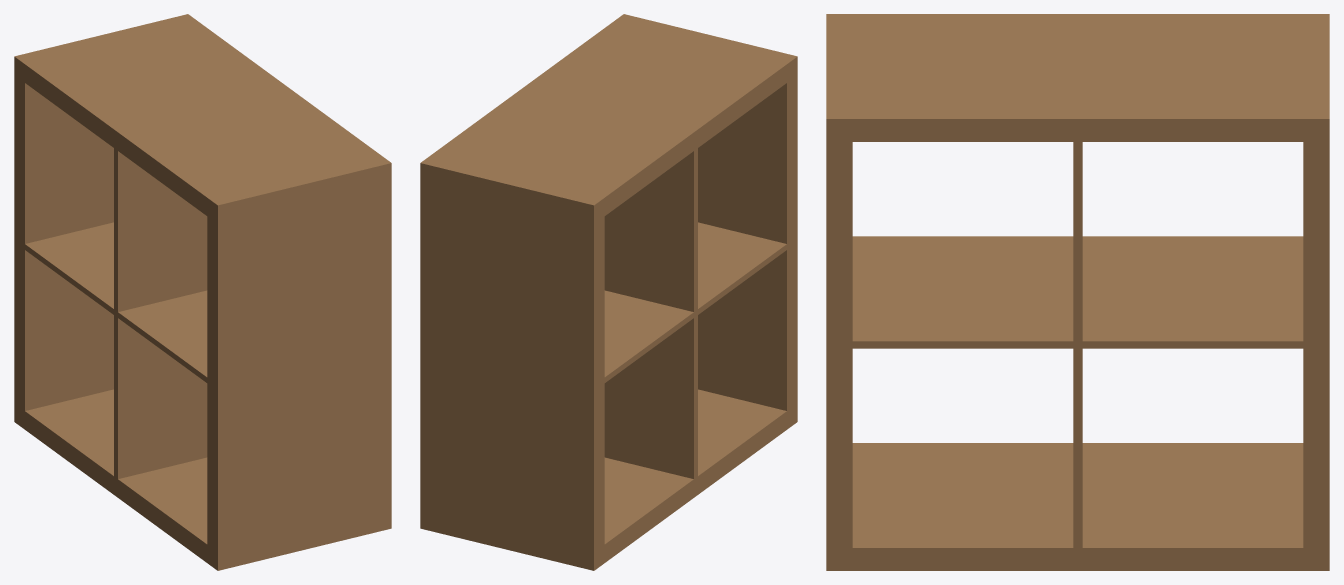
The model's file is rack_5.FBX.
The picture shows the model from 3 angles, left to right: view 1: azimuth 30°, elevation 25°; view 2: azimuth 150°, elevation 25°; view 3: azimuth 270°, elevation 25°; orthographic projection. The views are drawn at different scales.
Visible parts, largest first — view 1: rack_5; view 2: rack_5; view 3: rack_5.
Boxes of the visible parts, <box> form: rack_5: <box>14,14,391,570</box>; rack_5: <box>420,14,797,570</box>; rack_5: <box>826,14,1329,570</box>.
Size of the model in its own units: 0.3901 by 0.7837 by 0.7913.
